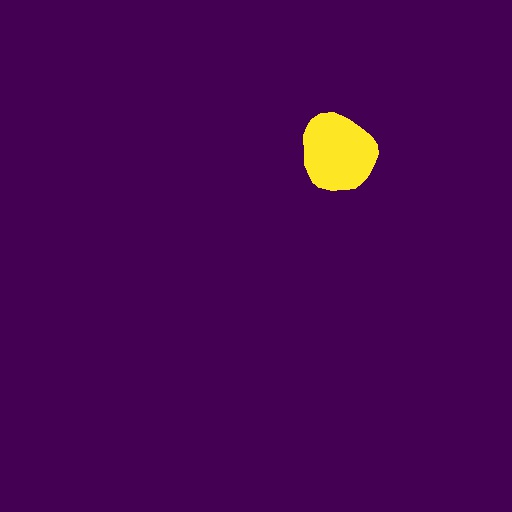Menigiomia_tumour: (303, 112, 379, 191)
